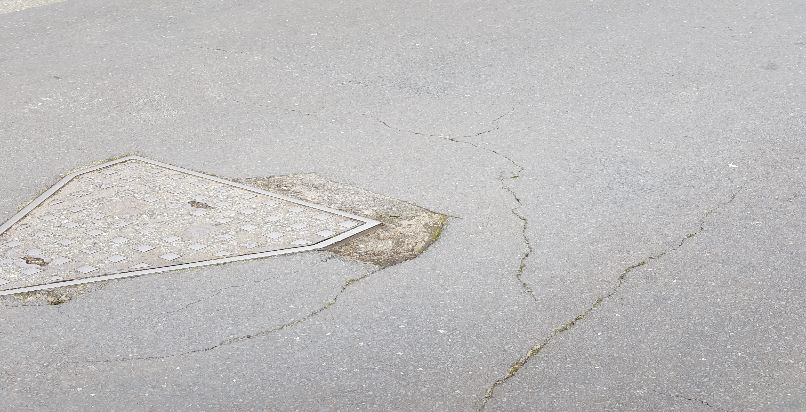pothole: (233, 166, 457, 273)
